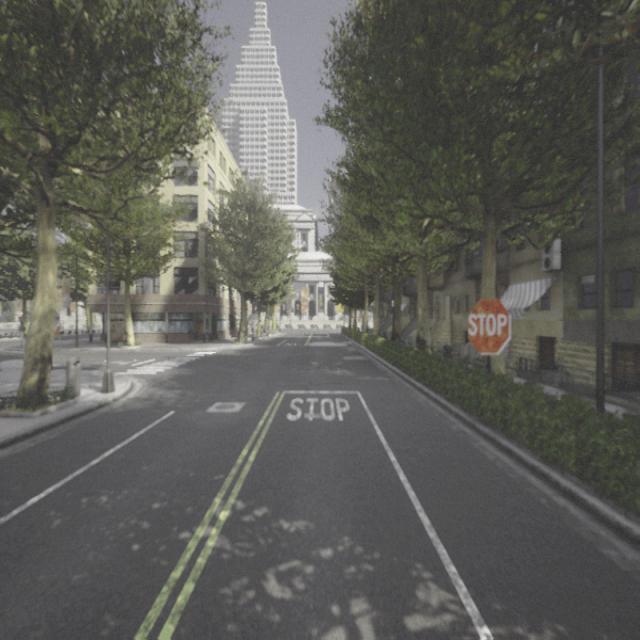stop sign: (464, 294, 513, 358), (467, 311, 508, 338)
